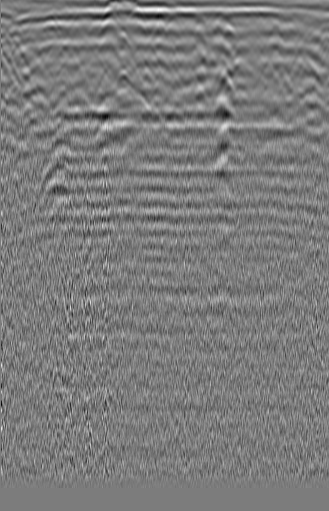가스: (92, 149, 121, 183)
상수: (4, 26, 31, 61)
오수: (290, 38, 323, 69)
우수: (151, 8, 209, 39)
